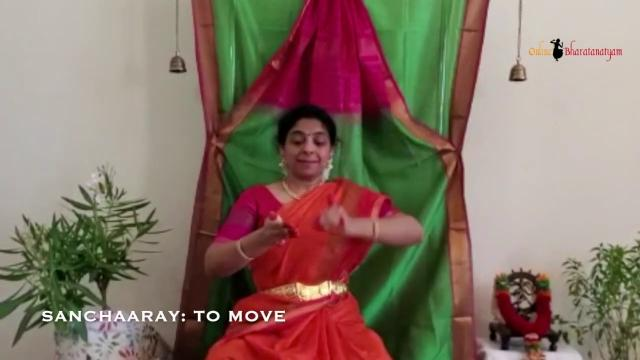mrighasheesh: (308, 189, 356, 246), (262, 197, 298, 265)
